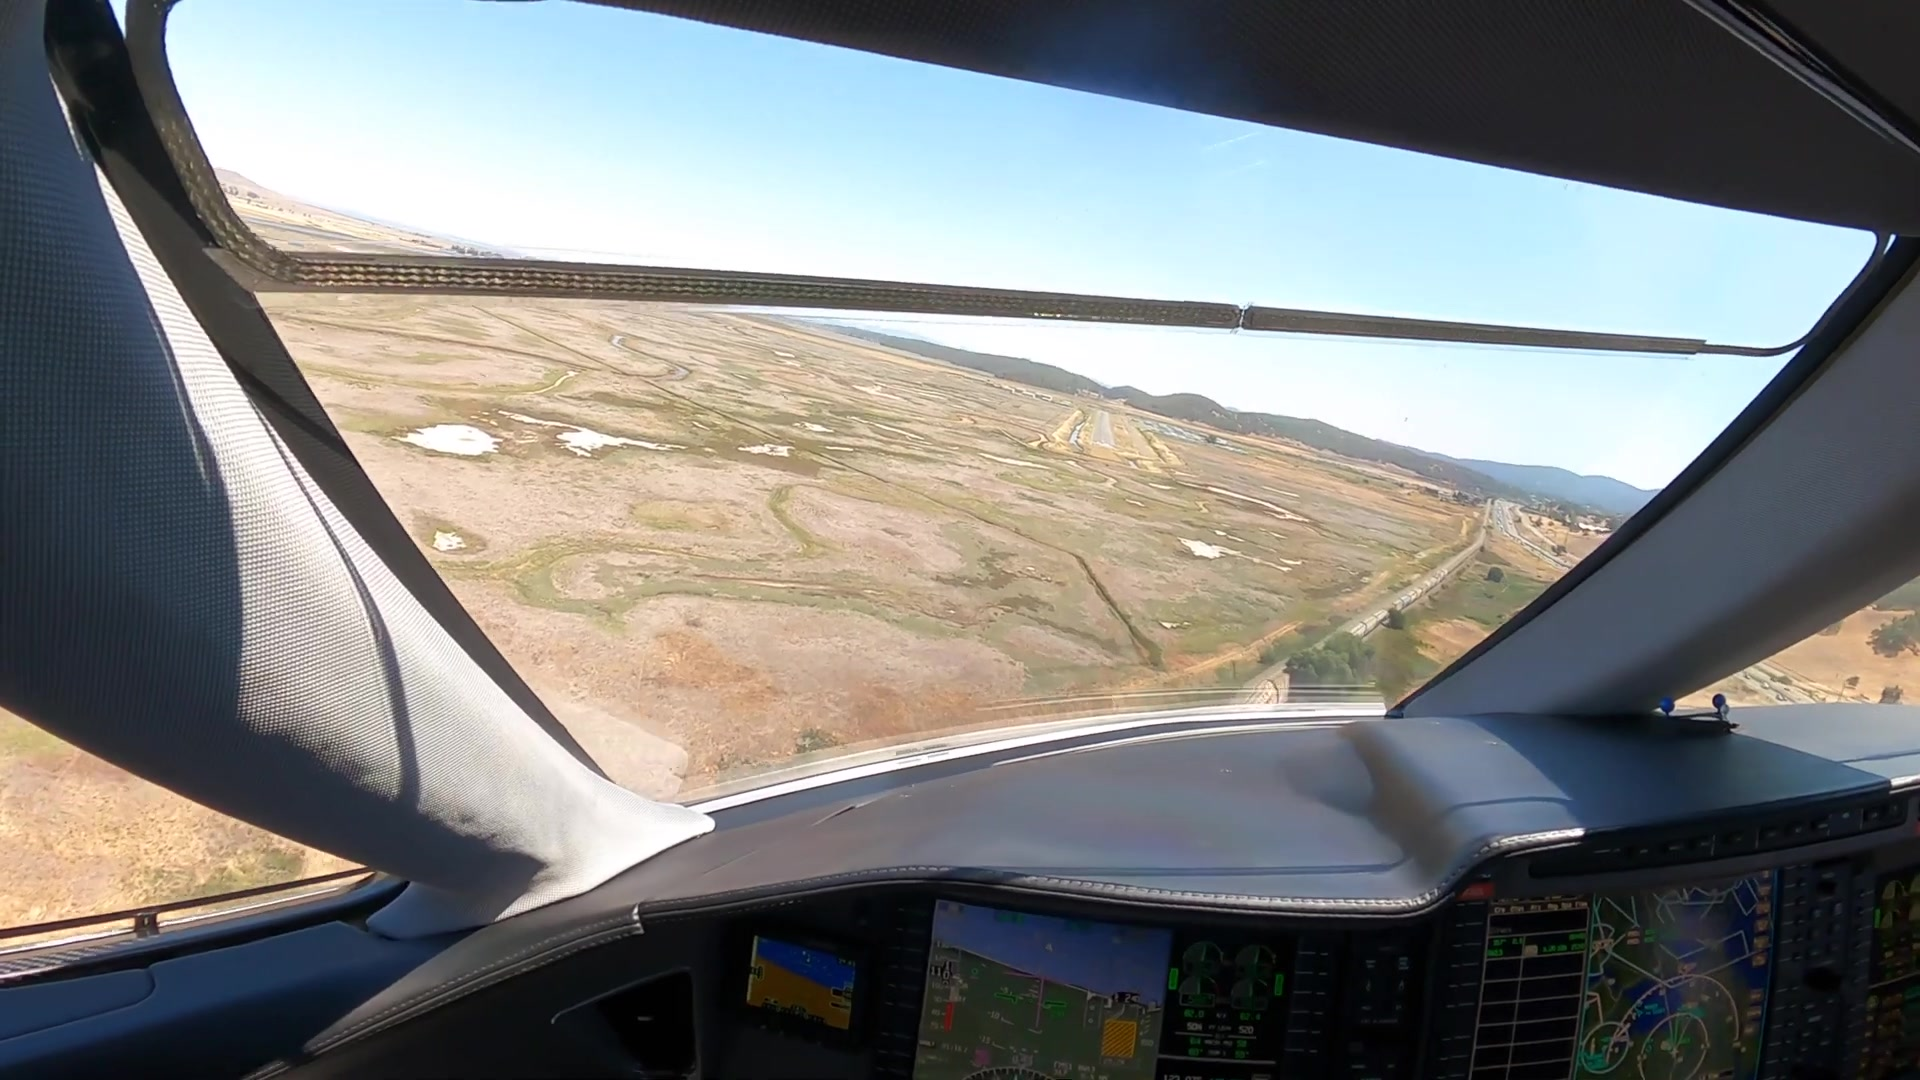runway: (1089, 407, 1116, 451)
